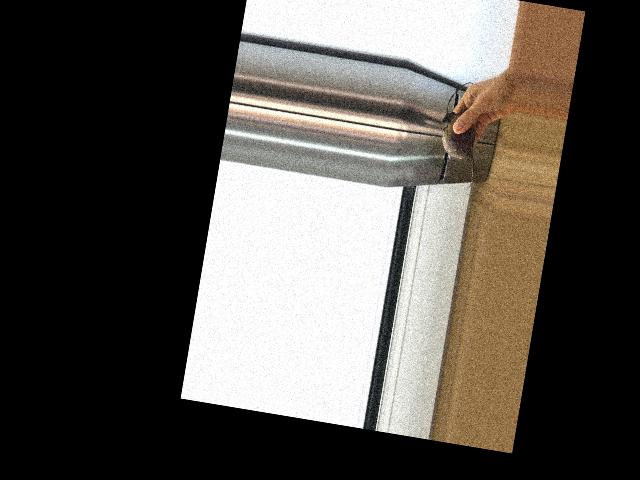beet: (432, 79, 489, 191)
